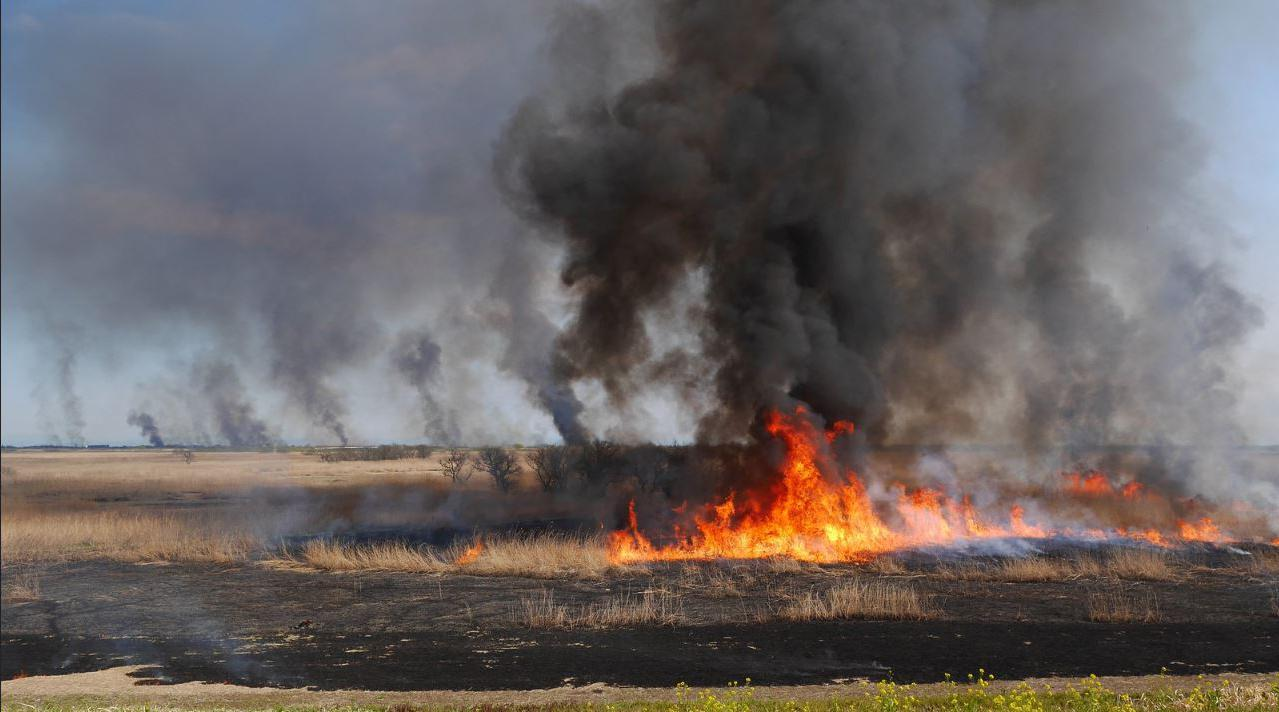Fire: (599, 379, 1033, 568), (1096, 522, 1246, 551), (1062, 456, 1160, 500), (452, 537, 492, 570)
